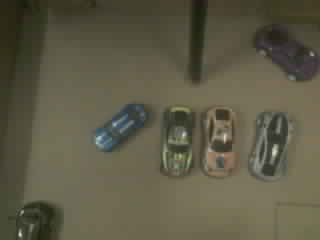Car: (257, 25, 317, 79), (249, 111, 292, 179), (202, 106, 235, 176), (96, 104, 146, 150), (161, 106, 193, 175), (18, 203, 50, 239)
